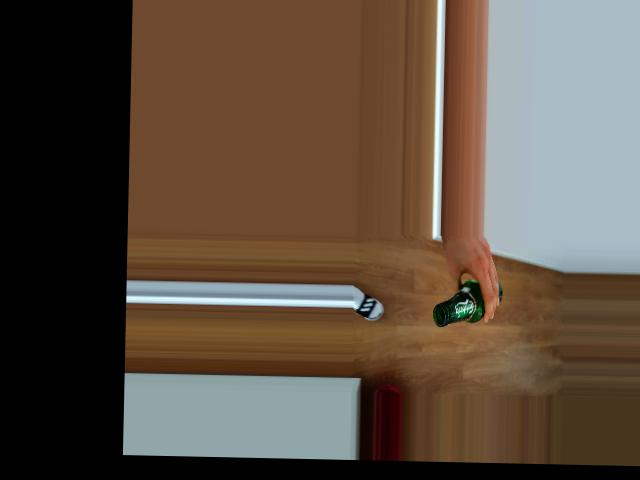beer: (432, 278, 502, 328)
